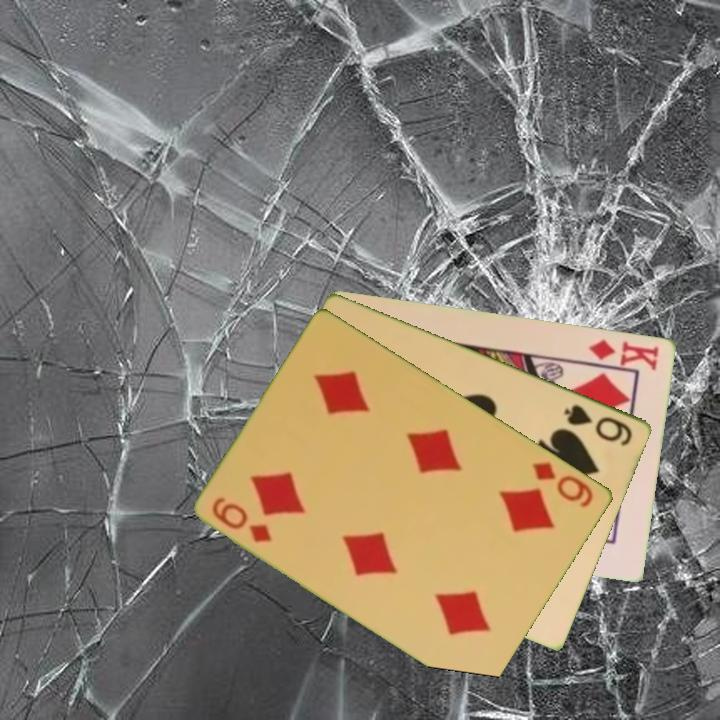6d: (529, 457, 597, 510), (209, 493, 276, 546)
6s: (561, 400, 636, 449)
Kd: (580, 335, 662, 373)
